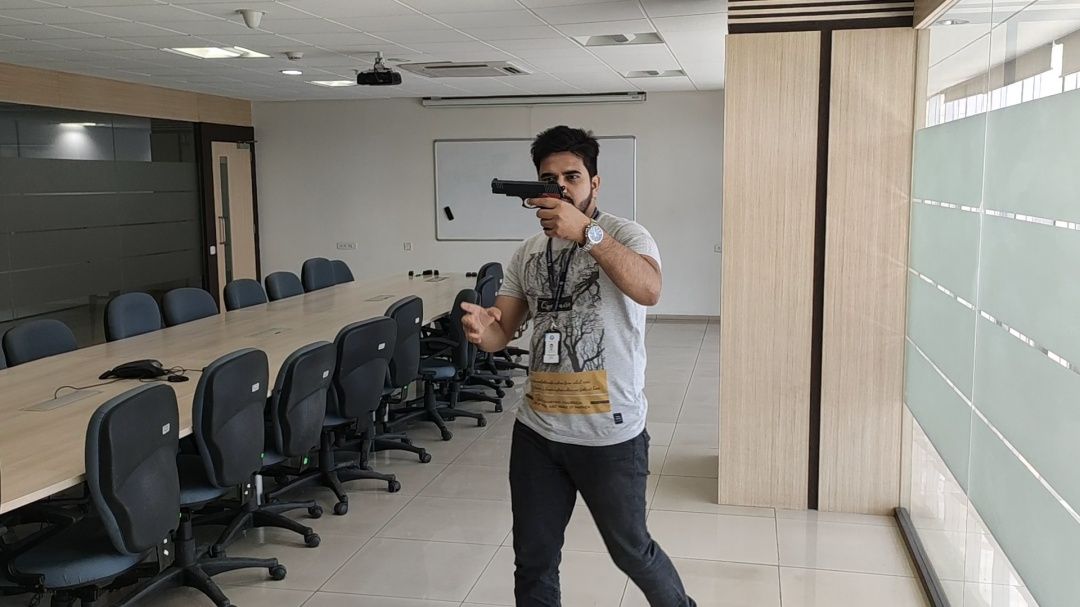gun: (487, 171, 561, 208)
